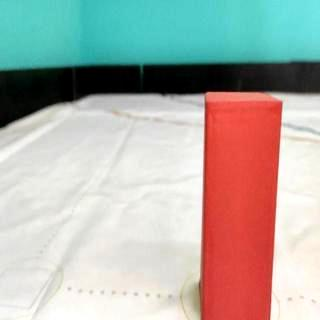redbox: (200, 90, 284, 320)
